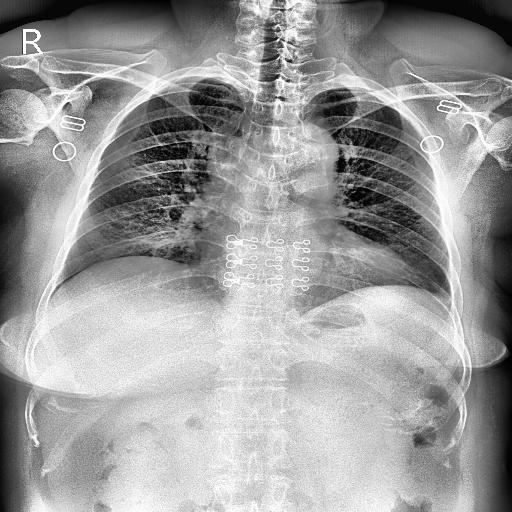0- Aortic enlargement: (264, 117, 336, 197), (271, 121, 339, 195), (276, 122, 334, 190)
3- Cardiomegaly: (198, 238, 422, 294), (196, 242, 414, 296)
